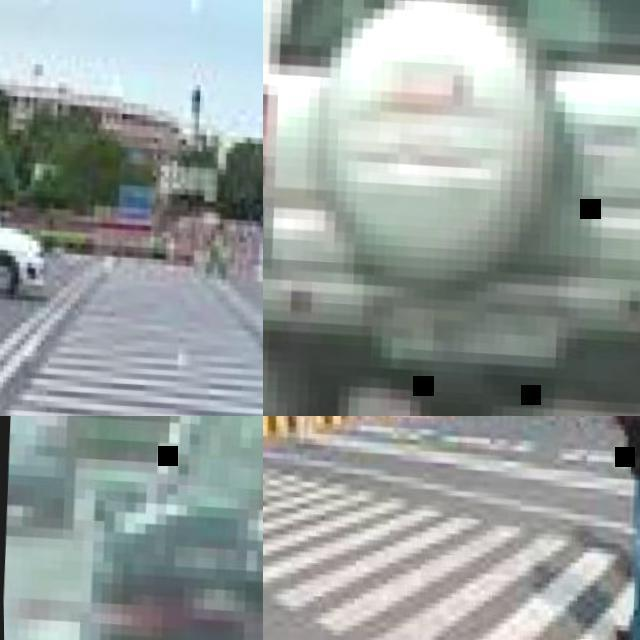car: (260, 0, 556, 385), (0, 221, 45, 299)
